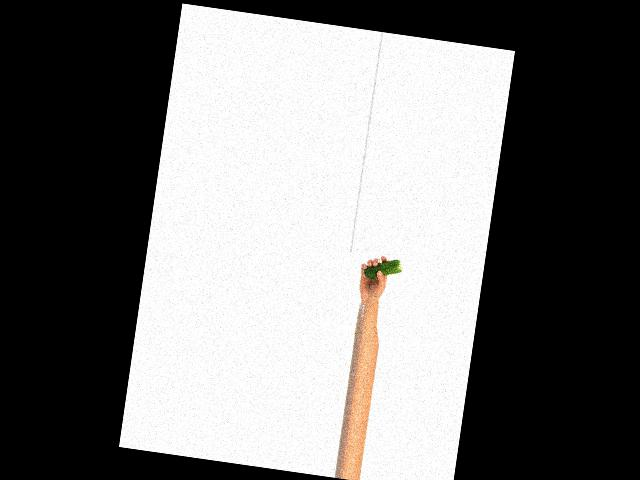cucumber: (362, 255, 403, 282)
